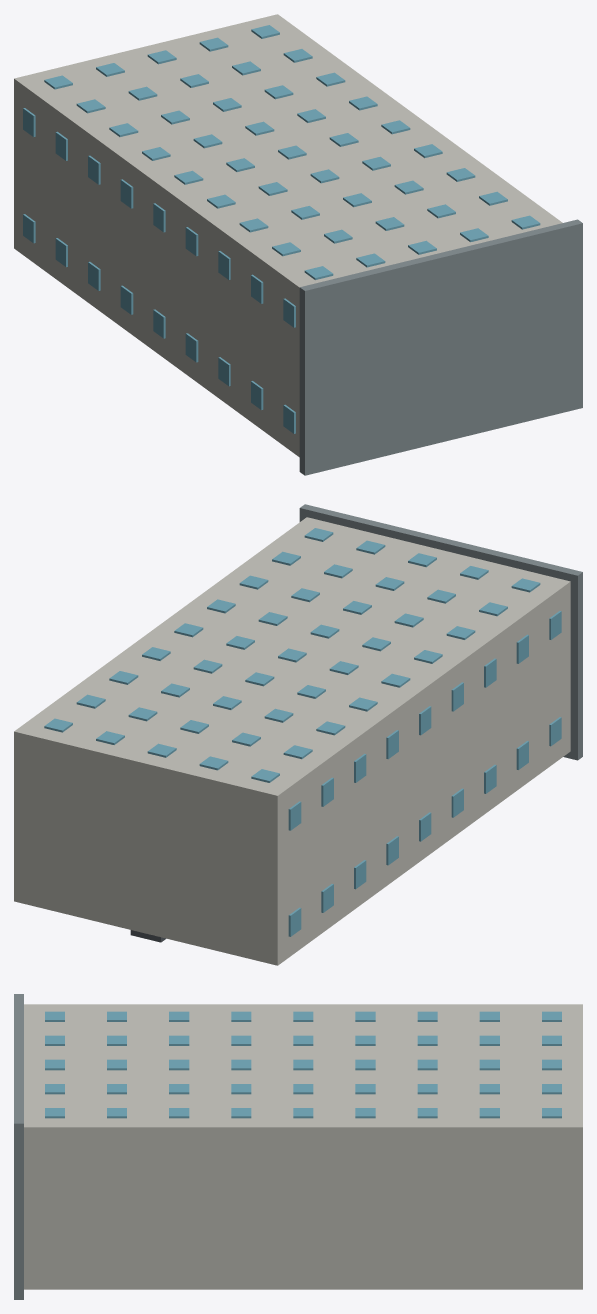
File: panel_9_story.glb
3 renders of one model, top to bottom at view 1: azimuth 30°, elevation 25°; view 2: azimuth 150°, elevation 25°; view 3: azimuth 270°, elevation 25°, orthographic. The views are drawn at different scales.
Parts seen in each view (by area): view 1: g0, g1; view 2: g0, g1; view 3: g0, g1.
Part boxes in pixels (x1,y1,x2,y2): g0: (14,14,562,457); g1: (299,219,582,475); g0: (14,517,570,965); g1: (299,504,582,760); g0: (24,1004,582,1289); g1: (14,994,23,1299).
Bounding box in the file's own units: 13.7 × 8.7 × 25.44.
